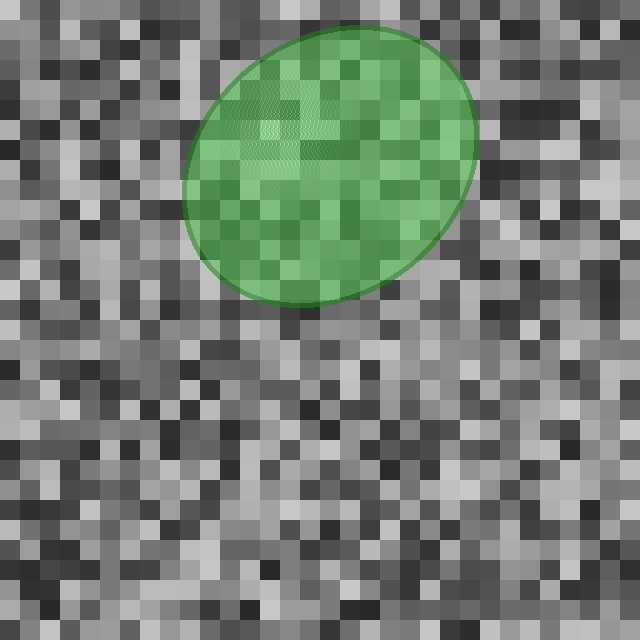lens: (184, 27, 476, 305)
